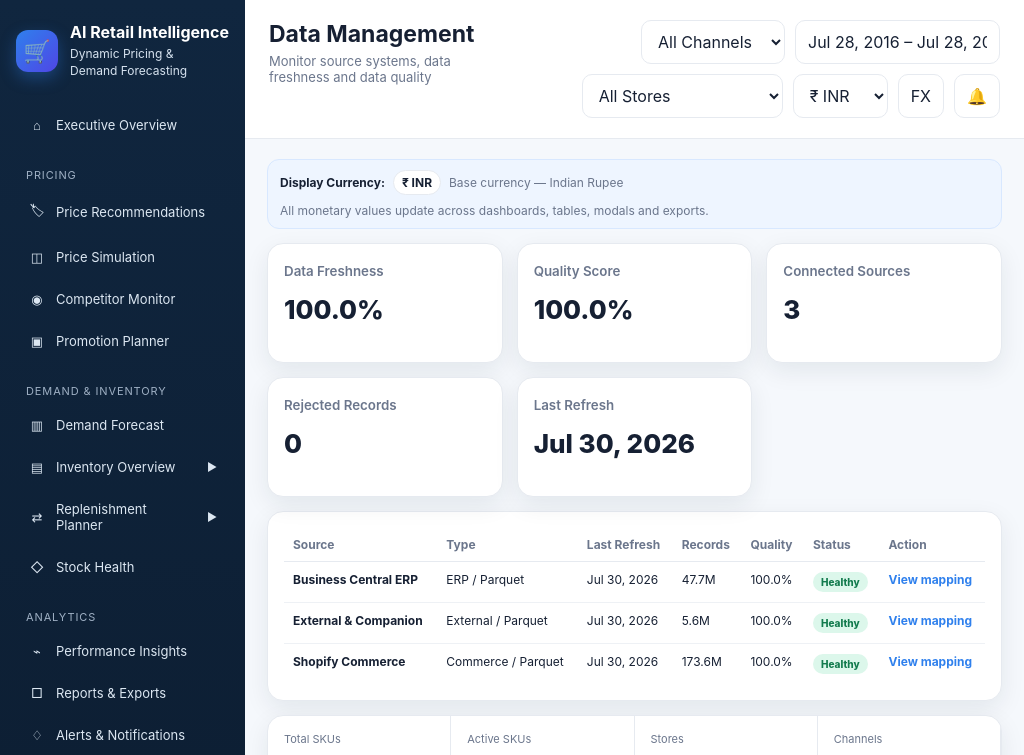
Test: Data Management screen contract › renders the original screen vocabulary with live governed values
Check: the heading "Data Management" is shown, box [269,20,488,48]
Check: the text "Monitor source systems, data freshness and data quality" is shown, box [269,53,451,85]
Select "Pune Koregaon Park" in the dropdown named "Store" at (682, 96), box [582,74,783,118]
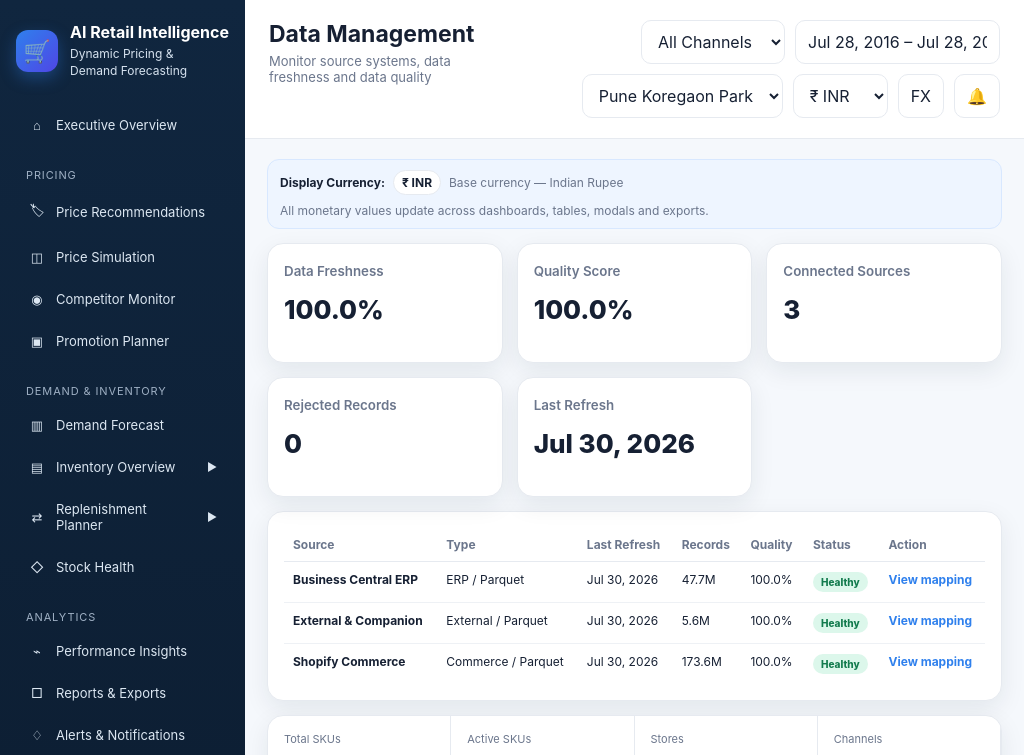
Select "E-commerce" in the dropdown named "Channel" at (713, 42), box [641,20,785,64]
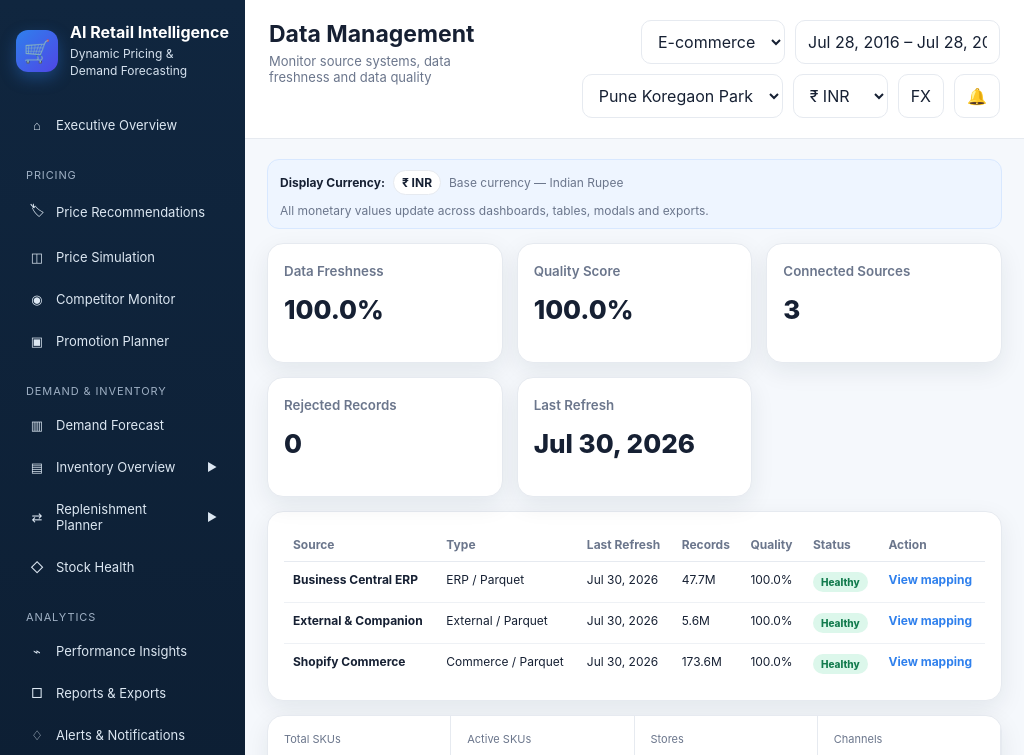
Click the button "FX" at (921, 96), box [898,74,944,118]
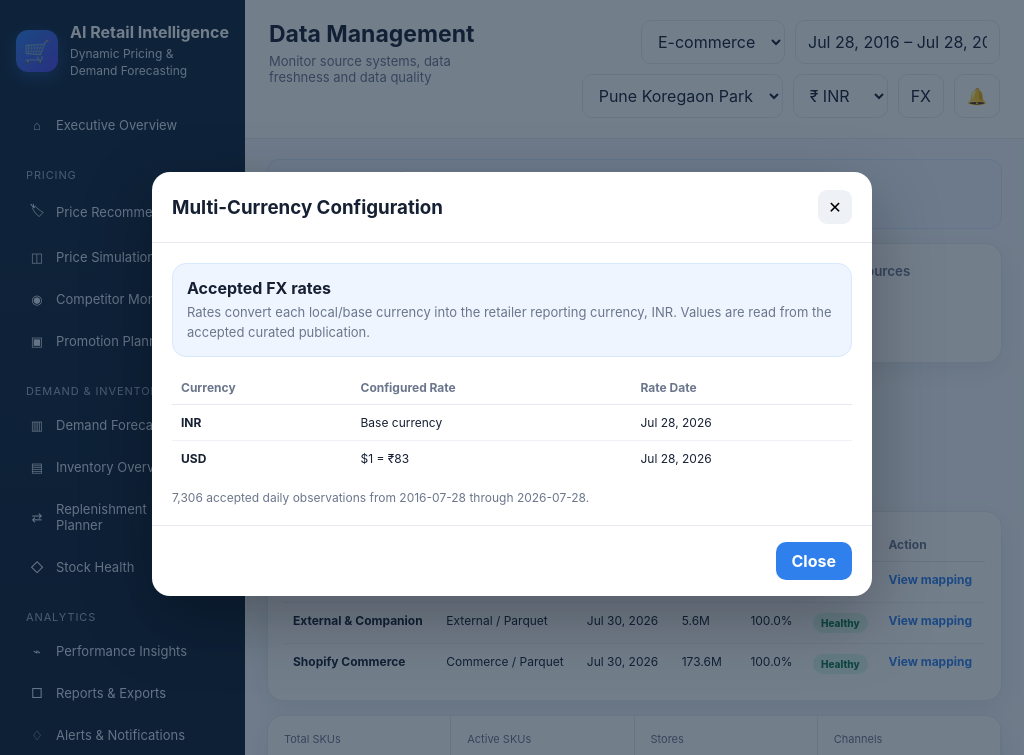
Check: the text "Accepted FX rates" is shown, box [187,278,331,298]
Check: the text "$1 = ₹83" is shown, box [352,440,632,476]
Check: the text "7,306 accepted daily observations from 2016-07-28 through 2026-07-28." is shown, box [172,490,589,505]
Click the button "Close" at (814, 561), box [776,542,852,580]
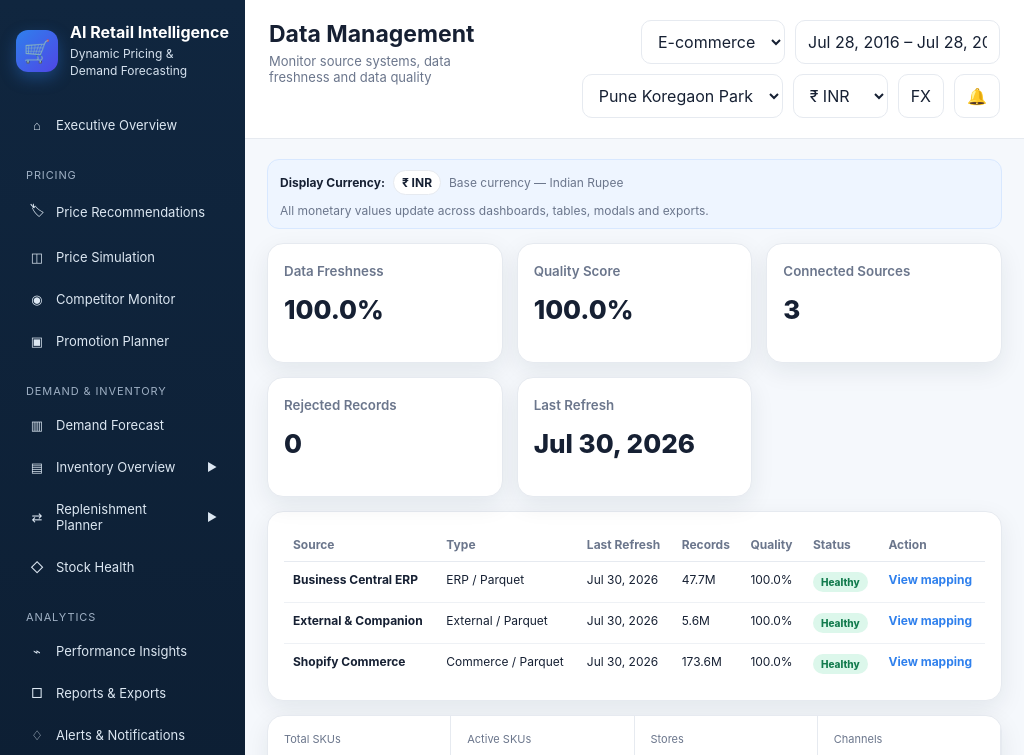
Check: the dialog is gone
